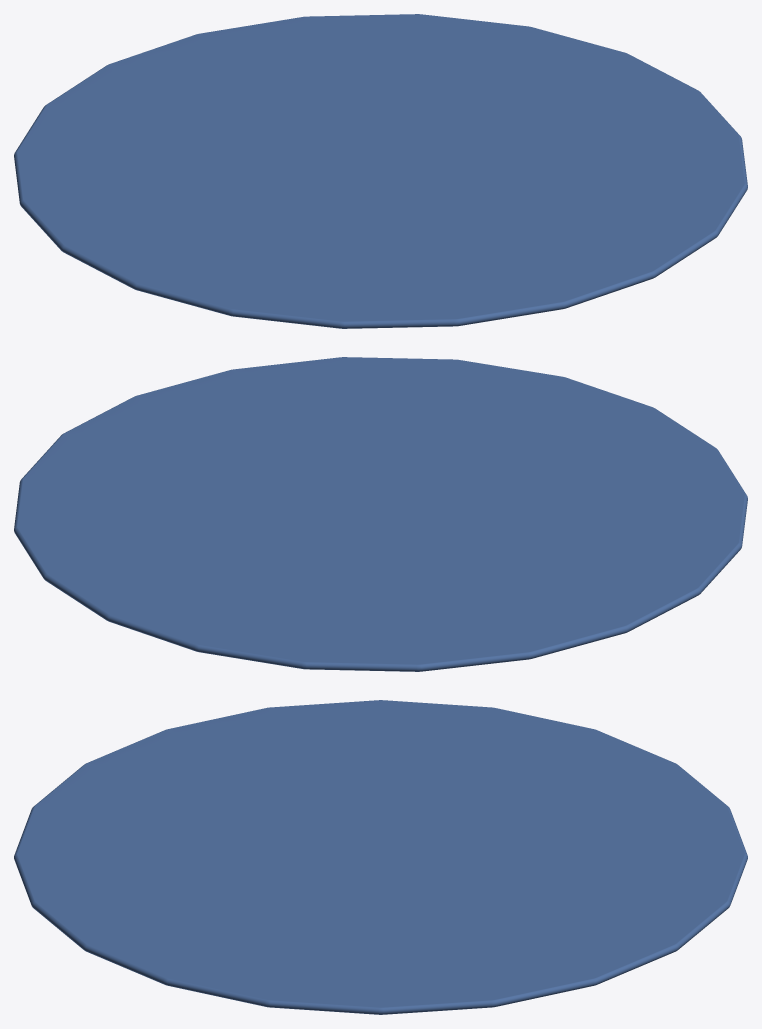
The model's file is mouse_pad.fbx.
3 views of the same model, one above another, from view 1: azimuth 30°, elevation 25°; view 2: azimuth 150°, elevation 25°; view 3: azimuth 270°, elevation 25° (orthographic).
Visible parts, largest first — view 1: pCylinder4; view 2: pCylinder4; view 3: pCylinder4.
Boxes of the visible parts, x1,y1,x2,y2 form: pCylinder4: (14,14,747,328); pCylinder4: (14,357,747,671); pCylinder4: (14,700,747,1014).
Size of the model in its own units: 0.6111 by 0.00686 by 0.6111.
